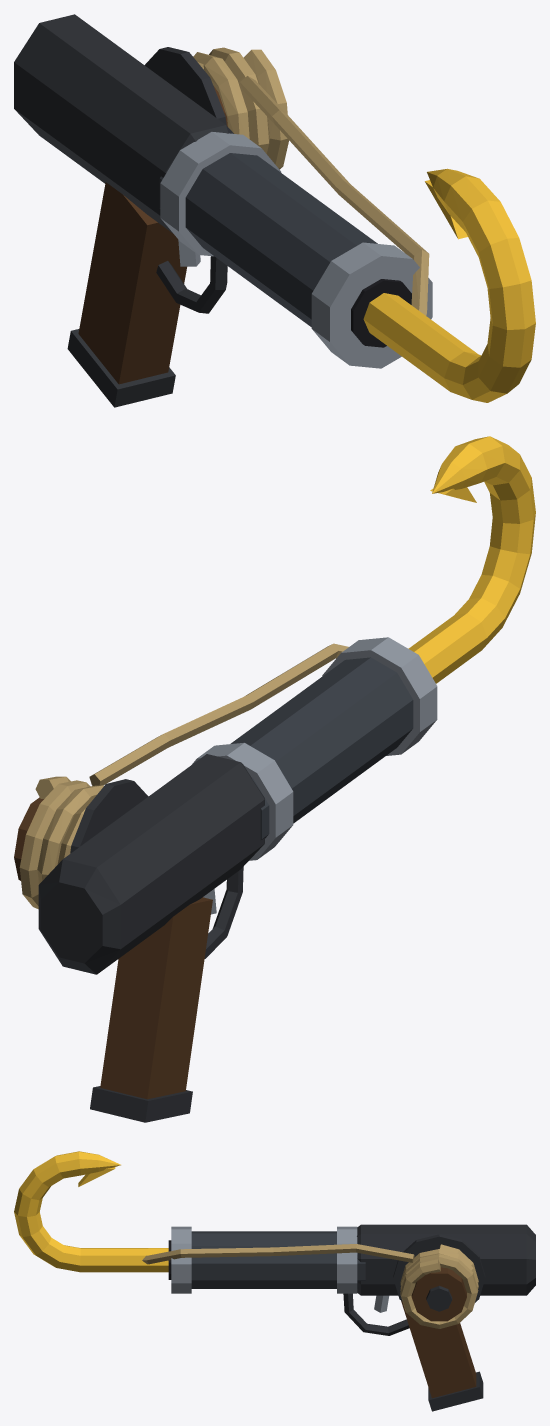
Rendered from HookGun.obj.
3 views of the same model, one above another, from view 1: azimuth 30°, elevation 25°; view 2: azimuth 150°, elevation 25°; view 3: azimuth 270°, elevation 25° (orthographic). The views are drawn at different scales.
Parts seen in each view (by area): view 1: HookGun; view 2: HookGun; view 3: HookGun.
Part boxes in pixels (x1,y1,x2,y2): HookGun: (14, 14, 535, 407); HookGun: (14, 436, 535, 1122); HookGun: (14, 1151, 535, 1411).
Bounding box in the file's own units: 0.1272 × 0.3022 × 0.567.
